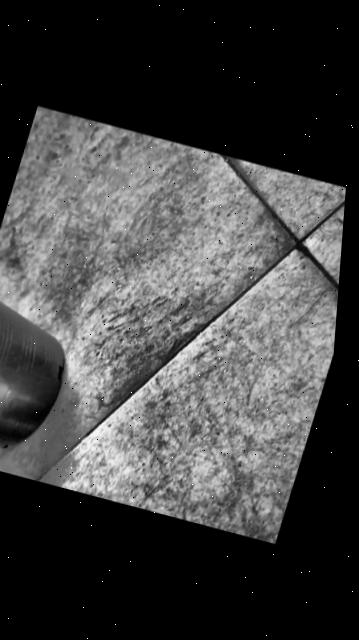pot: (0, 277, 86, 478)
